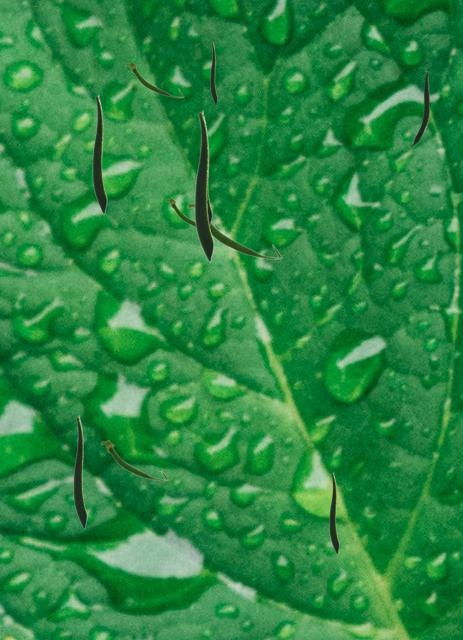french_bean: (186, 202, 281, 259), (194, 110, 213, 261), (100, 439, 167, 480), (125, 61, 183, 97), (92, 94, 106, 213), (165, 197, 218, 228), (73, 415, 86, 528), (410, 71, 428, 145), (329, 472, 338, 553), (210, 42, 216, 104), (208, 165, 211, 224)
